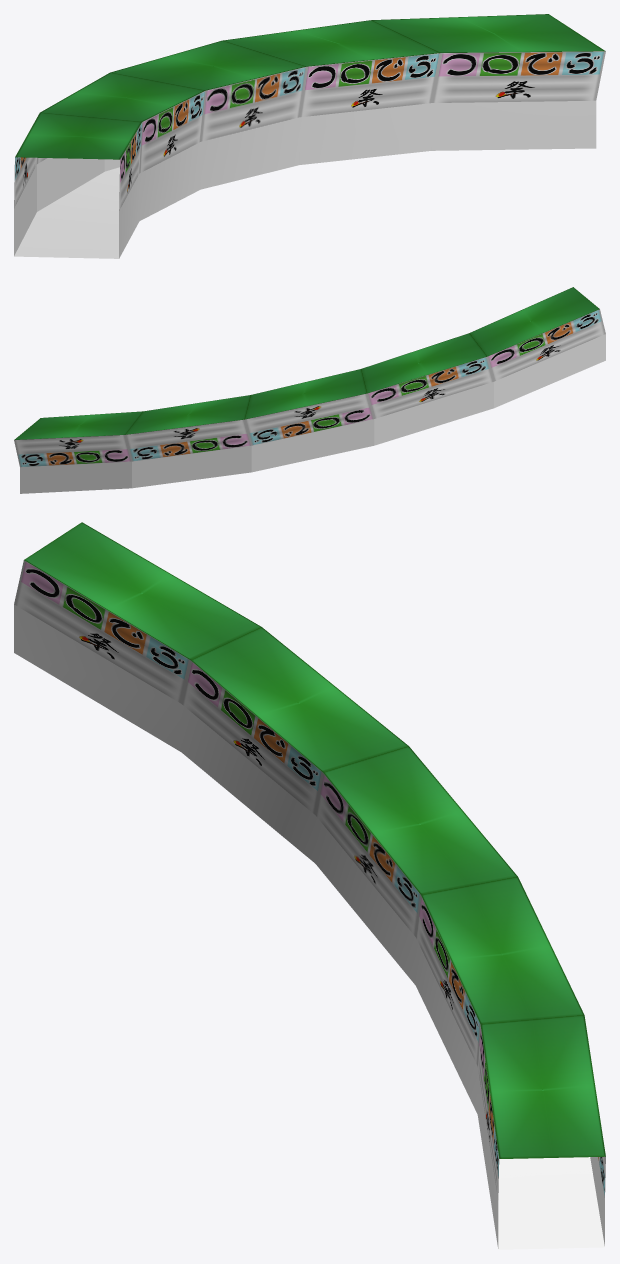
File: CourseWinter_Wall_R_4.fbx
3 views of the same model, one above another, from view 1: azimuth 30°, elevation 25°; view 2: azimuth 150°, elevation 25°; view 3: azimuth 270°, elevation 25° (orthographic). The views are drawn at different scales.
Visible parts, largest first — view 1: polySurface426; view 2: polySurface426; view 3: polySurface426.
Part boxes in pixels (<box>): polySurface426: <box>14,14,605,258</box>; polySurface426: <box>14,287,605,493</box>; polySurface426: <box>14,522,605,1249</box>.
Bounding box in the file's own units: 17.58 × 6.97 × 11.07.
1 material, 1 textured.
